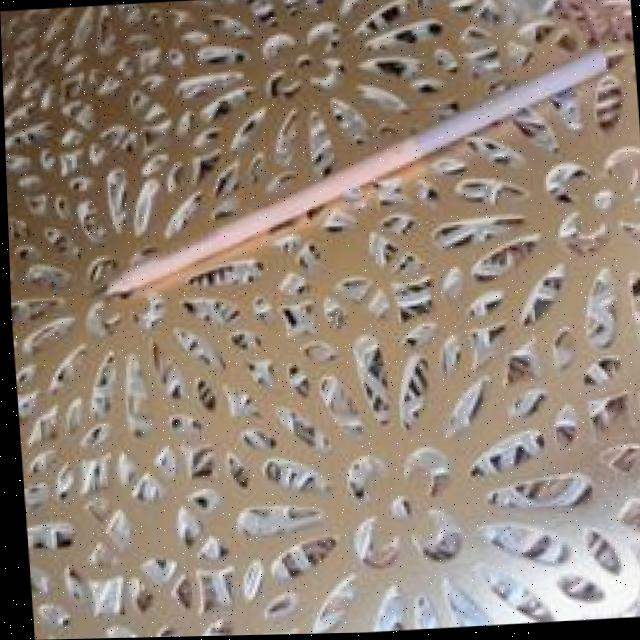pencil: (67, 27, 632, 324)
